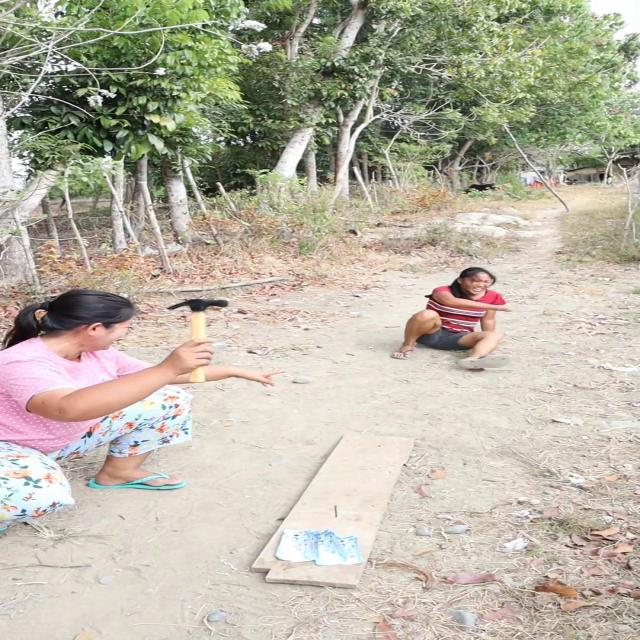hammer: (168, 297, 231, 383)
